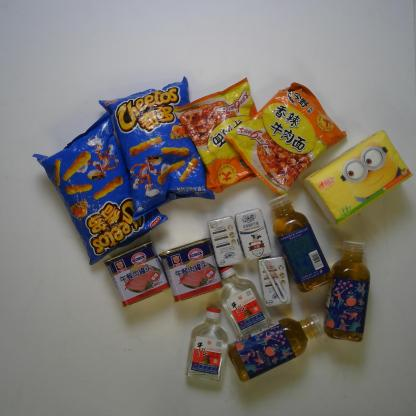Alcohol: (218, 264, 273, 340), (184, 305, 230, 383)
Canned Food: (102, 239, 172, 308), (156, 236, 224, 302)
Drink: (226, 309, 328, 384), (266, 193, 333, 293), (322, 238, 372, 343)
Instant Noodles: (223, 82, 348, 197), (172, 76, 266, 194)
Milk: (234, 206, 273, 262), (207, 215, 247, 268), (258, 254, 293, 308)
Puffed Food: (31, 108, 169, 266), (99, 75, 216, 223)
Tissue: (302, 128, 414, 227)
